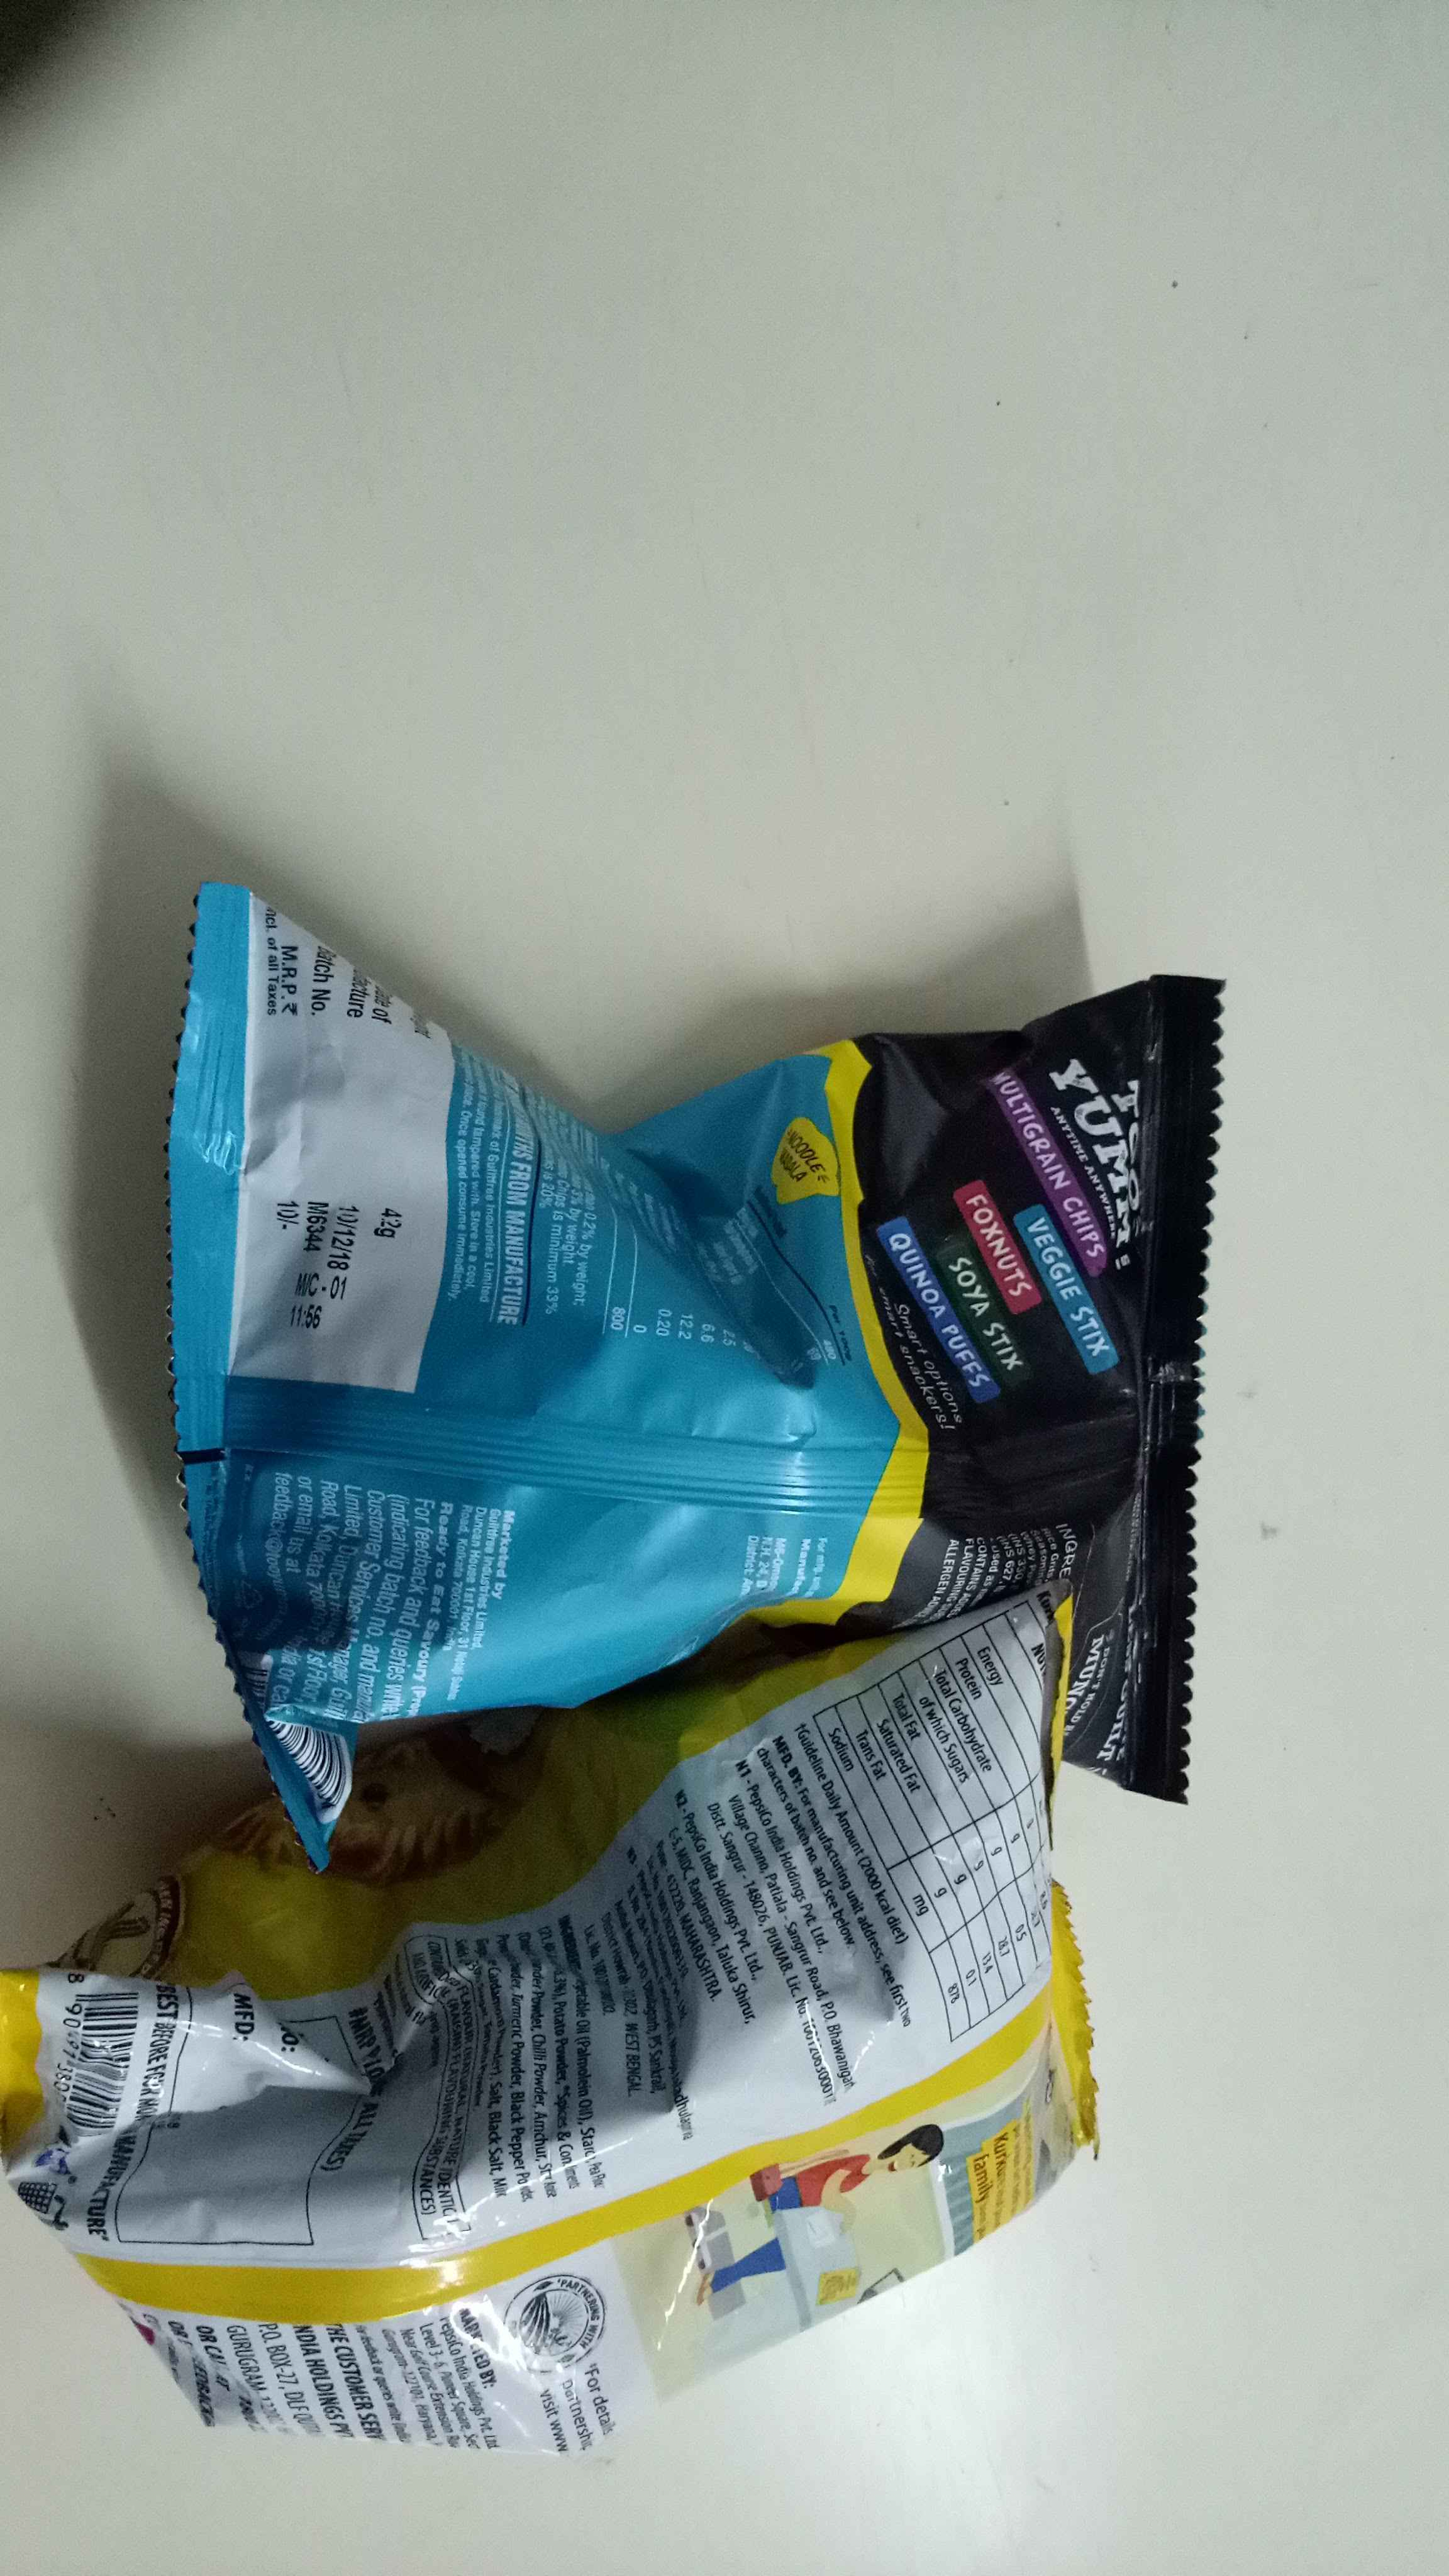kurkure: (1047, 1039, 1180, 1235)
